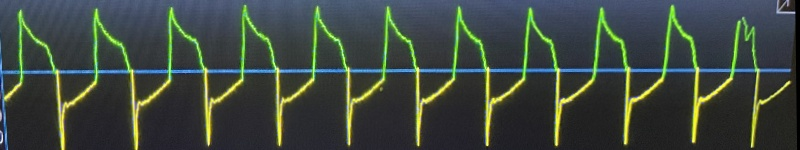peepi: (0, 0, 765, 150)
